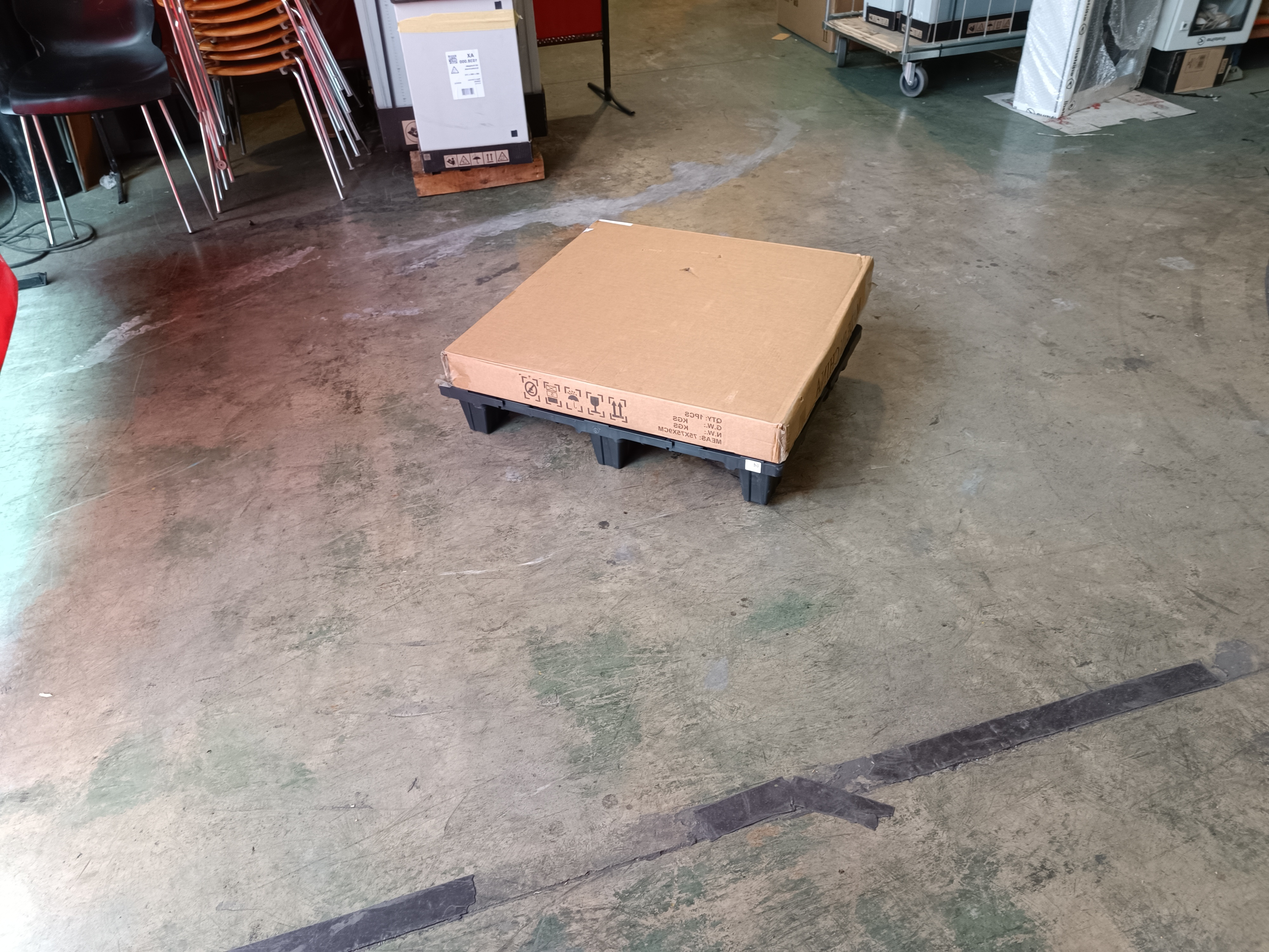block: (461, 400, 509, 431), (737, 462, 768, 508), (586, 434, 624, 467)
front: (423, 383, 794, 524)
hole pallet: (624, 439, 741, 497), (481, 406, 590, 467)
